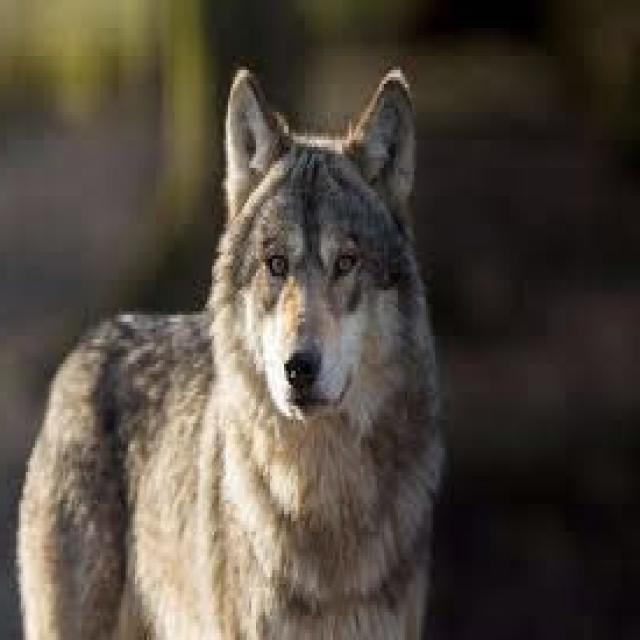wolf: (14, 66, 445, 637)
